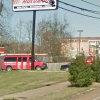Bus: (2, 50, 36, 73)
